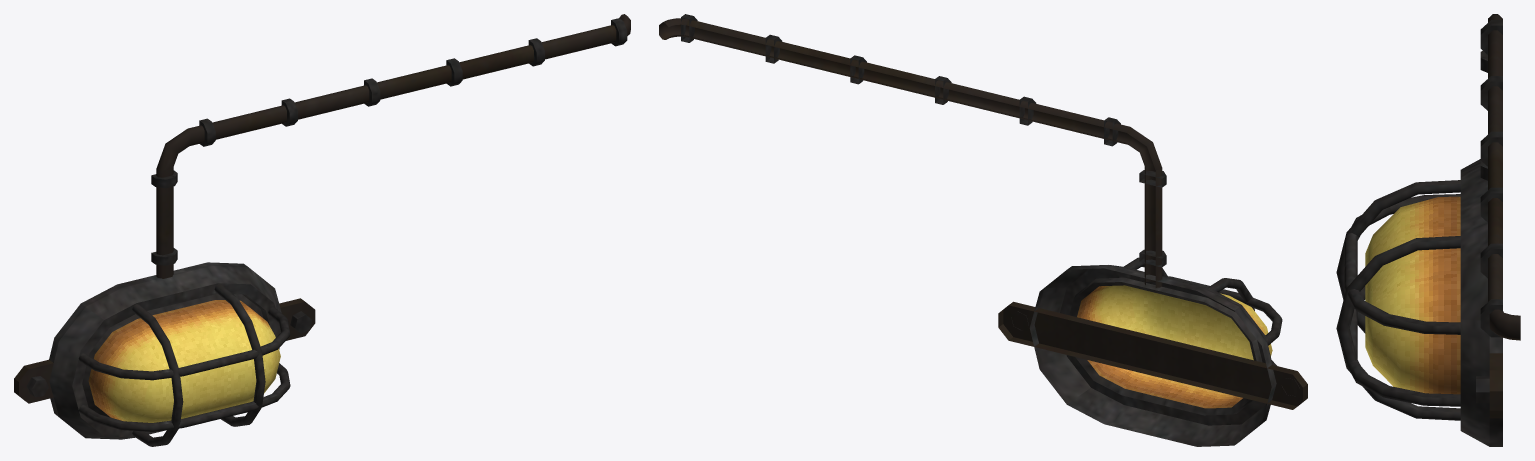
File: lamp_1_on.obj
3 views of the same model, side by side, from view 1: azimuth 30°, elevation 25°; view 2: azimuth 150°, elevation 25°; view 3: azimuth 270°, elevation 25° (orthographic). The views are drawn at different scales.
Visible parts, largest first — view 1: lamp_1_on; view 2: lamp_1_on; view 3: lamp_1_on.
Part boxes in pixels (x1,y1,x2,y2): lamp_1_on: (14, 14, 630, 446); lamp_1_on: (659, 14, 1307, 446); lamp_1_on: (1336, 14, 1520, 446).
Size of the model in its own units: 0.7532 by 0.343 by 0.1393.
